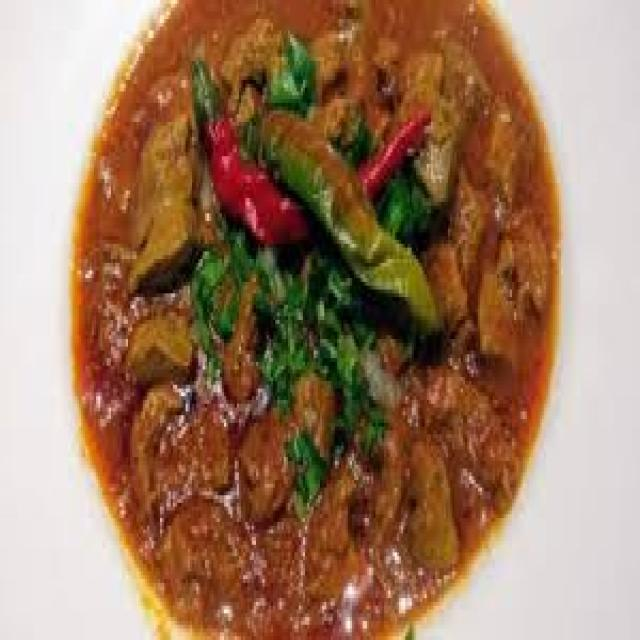Kamouniya: (72, 4, 559, 637)
